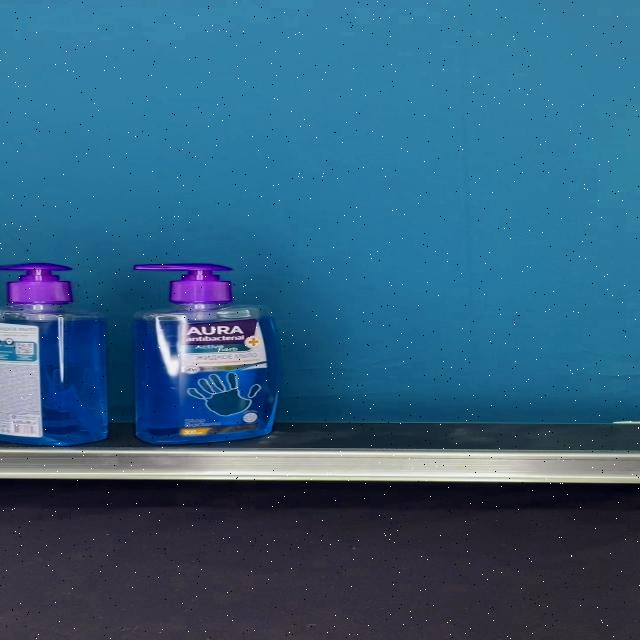Bottle: (132, 263, 282, 444), (0, 263, 108, 445)
Cap: (135, 264, 231, 306), (0, 264, 72, 306)
